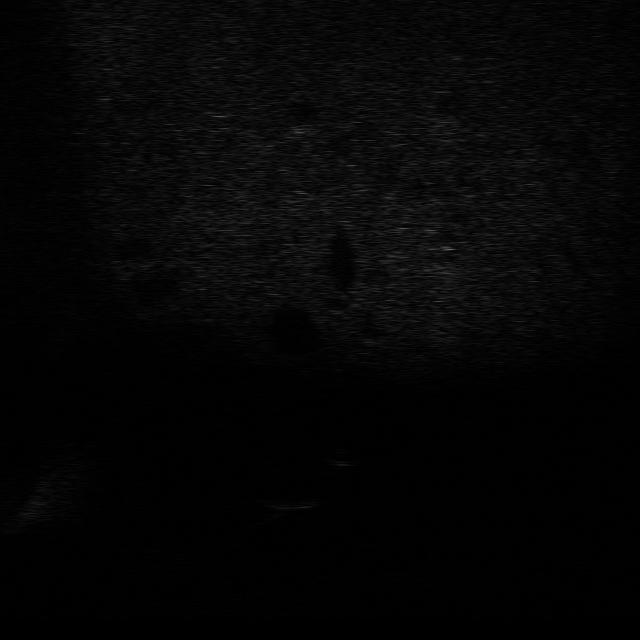ball: (316, 443, 365, 473)
square cage: (251, 486, 329, 518)
